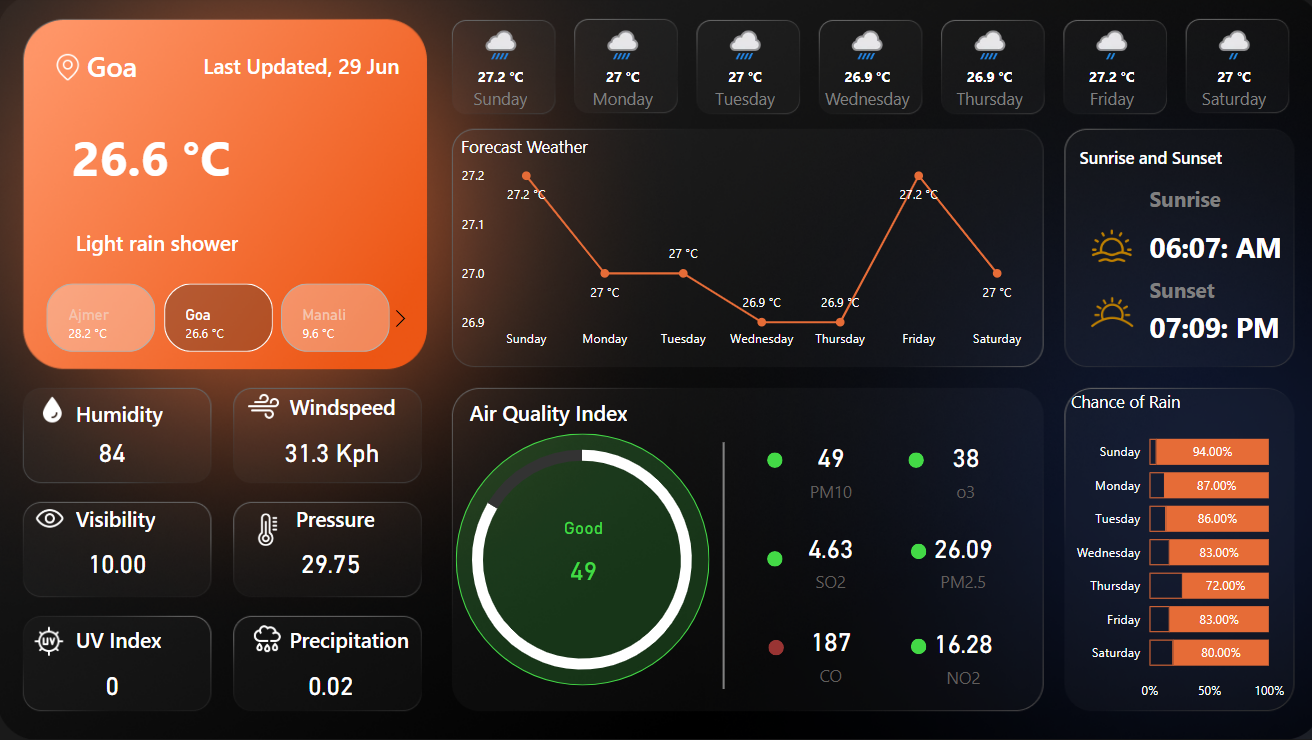

The page's visual inventory and layout, read from the dashboard file:
{"tool":"powerbi","page":{"name":"Page 1","canvas":[1280,720],"ordinal":0},"visuals":[{"type":"advancedSlicerVisual","fields":{"Values":["Location.location.name"]},"box":[23.3,273.1,381.5,76.8],"z":0},{"type":"shape","box":[72.8,107.1,164.8,94.8],"z":1000},{"type":"shape","box":[75.6,217,232.2,41.2],"z":2000},{"type":"shape","box":[86.6,41.9,100.5,48.9],"z":3000},{"type":"image","box":[50.8,46.7,35.7,44],"z":4000},{"type":"shape","box":[199,42.5,205.8,48],"z":5000},{"type":"image","box":[24.7,483.9,53.8,40.7],"z":6000},{"type":"shape","box":[75.6,483.9,100.3,40.7],"z":7000},{"type":"image","box":[29.1,380.7,49.4,36.3],"z":8000},{"type":"shape","box":[75.6,380.7,100.3,42.1],"z":9000},{"type":"image","box":[231.1,374.9,50.9,42.1],"z":10000},{"type":"shape","box":[281.9,374.9,123.5,42.1],"z":11000},{"type":"image","box":[232.5,494.1,56.7,40.7],"z":12000},{"type":"shape","box":[287.7,483.9,100.3,40.7],"z":13000},{"type":"image","box":[21.8,603.1,56.7,39.2],"z":14000},{"type":"shape","box":[75.6,600.2,100.3,42.1],"z":15000},{"type":"image","box":[232.5,600.2,55.2,42.1],"z":16000},{"type":"shape","box":[281.9,600.2,123.5,42.1],"z":17000},{"type":"card","fields":{"Values":["Sum(Current.current.humidity)"]},"box":[71.2,417.1,79.9,46.5],"z":18000},{"type":"card","fields":{"Values":["_Measure.Wind_Speed"]},"box":[270.3,417.1,106.1,46.5],"z":19000},{"type":"card","fields":{"Values":["Sum(Current.current.pressure_in)"]},"box":[281.9,524.6,79.9,46.5],"z":20000},{"type":"card","fields":{"Values":["Sum(Current.current.vis_km)"]},"box":[75.6,524.6,79.9,46.5],"z":21000},{"type":"card","fields":{"Values":["Sum(Current.current.uv)"]},"box":[71.2,642.3,79.9,46.5],"z":22000},{"type":"card","fields":{"Values":["Sum(Current.current.precip_in)"]},"box":[281.9,642.3,79.9,46.5],"z":23000},{"type":"advancedSlicerVisual","fields":{"Values":["Forecast_Day.Day_Name"]},"box":[425.8,16,834.2,101.7],"z":24000},{"type":"lineChart","title":"Forecast Weather","fields":{"Y":["Sum(Forecast_Day.forecast.forecastday.day.avgtemp_c)"],"Category":["Forecast_Day.Day_Name"]},"box":[443.3,133.9,558,215.2],"z":25000},{"type":"shape","box":[1044.3,133.9,202.5,43],"z":26000},{"type":"shape","box":[1112.9,219.6,134.5,45.3],"z":27000},{"type":"shape","box":[1112.9,300.5,134.5,37],"z":28000},{"type":"shape","box":[1112.9,177,134.5,35.7],"z":29000},{"type":"shape","box":[1112.9,264.8,134.5,35.7],"z":30000},{"type":"image","box":[1044.3,273.1,63.1,64.5],"z":31000},{"type":"image","box":[1044.3,216.8,63.1,48],"z":32000},{"type":"hundredPercentStackedBarChart","title":"Chance of Rain","fields":{"Y":["_Measure.Left_value_Rain","Sum(Forecast_Day.forecast.forecastday.day.daily_chance_of_rain)"],"Category":["Forecast_Day.Day_Name"]},"box":[1032,380,216.2,309.1],"z":33000},{"type":"shape","box":[456.1,380,217.9,43.9],"z":34000},{"type":"card","fields":{"Values":["Sum(Current.current.air_quality.o3)"]},"box":[881.7,417.2,106.4,77.7],"z":35000},{"type":"card","fields":{"Values":["Sum(Current.current.air_quality.pm2_5)"]},"box":[880,506.7,106.4,74.3],"z":36000},{"type":"card","fields":{"Values":["Sum(Current.current.air_quality.no2)"]},"box":[880,603,106.4,65.9],"z":37000},{"type":"card","fields":{"Values":["Sum(Current.current.air_quality.pm10)"]},"box":[751.7,417.2,106.4,77.7],"z":38000},{"type":"card","fields":{"Values":["Sum(Current.current.air_quality.so2)"]},"box":[751.7,506.7,106.4,74.3],"z":39000},{"type":"card","fields":{"Values":["Sum(Current.current.air_quality.co)"]},"box":[751.7,599.6,106.4,69.3],"z":40000},{"type":"shape","box":[743.2,440.9,15.2,15.2],"z":41000},{"type":"shape","box":[744.9,621.6,15.2,15.2],"z":42000},{"type":"shape","box":[743.2,535.4,15.2,15.2],"z":43000},{"type":"shape","box":[880,440.9,15.2,15.2],"z":44000},{"type":"shape","box":[881.7,528.7,15.2,15.2],"z":45000},{"type":"shape","box":[881.7,619.9,15.2,15.2],"z":46000},{"type":"shape","box":[660.4,430.7,82.8,238.2],"z":47000},{"type":"card","fields":{"Values":["Sum(Current.current.air_quality.pm10)"]},"box":[518.6,503.4,94.6,82.8],"z":48000},{"type":"shape","box":[442.5,422.3,244.9,243.2],"z":49000},{"type":"donutChart","fields":{"Y":["_Measure.Left_Value_PM10","Sum(Current.current.air_quality.pm10)"]},"box":[410.5,407.1,309.1,275.3],"z":50000}]}

Visuals, with their boxes in screenshot pixels (x1, y1, x2, y2), scaled from the page's 1280x720 canvas onto the 1312x740 screenshot:
advancedSlicerVisual - Location.location.name: [left=24, top=281, right=415, bottom=360]
shape: [left=75, top=110, right=244, bottom=208]
shape: [left=77, top=223, right=315, bottom=265]
shape: [left=89, top=43, right=192, bottom=93]
image: [left=52, top=48, right=89, bottom=93]
shape: [left=204, top=44, right=415, bottom=93]
image: [left=25, top=497, right=80, bottom=539]
shape: [left=77, top=497, right=180, bottom=539]
image: [left=30, top=391, right=80, bottom=429]
shape: [left=77, top=391, right=180, bottom=435]
image: [left=237, top=385, right=289, bottom=429]
shape: [left=289, top=385, right=416, bottom=429]
image: [left=238, top=508, right=296, bottom=550]
shape: [left=295, top=497, right=398, bottom=539]
image: [left=22, top=620, right=80, bottom=660]
shape: [left=77, top=617, right=180, bottom=660]
image: [left=238, top=617, right=295, bottom=660]
shape: [left=289, top=617, right=416, bottom=660]
card - Sum(Current.current.humidity): [left=73, top=429, right=155, bottom=476]
card - _Measure.Wind_Speed: [left=277, top=429, right=386, bottom=476]
card - Sum(Current.current.pressure_in): [left=289, top=539, right=371, bottom=587]
card - Sum(Current.current.vis_km): [left=77, top=539, right=159, bottom=587]
card - Sum(Current.current.uv): [left=73, top=660, right=155, bottom=708]
card - Sum(Current.current.precip_in): [left=289, top=660, right=371, bottom=708]
advancedSlicerVisual - Forecast_Day.Day_Name: [left=436, top=16, right=1292, bottom=121]
"Forecast Weather" lineChart: [left=454, top=138, right=1026, bottom=359]
shape: [left=1070, top=138, right=1278, bottom=182]
shape: [left=1141, top=226, right=1279, bottom=272]
shape: [left=1141, top=309, right=1279, bottom=347]
shape: [left=1141, top=182, right=1279, bottom=219]
shape: [left=1141, top=272, right=1279, bottom=309]
image: [left=1070, top=281, right=1135, bottom=347]
image: [left=1070, top=223, right=1135, bottom=272]
"Chance of Rain" hundredPercentStackedBarChart: [left=1058, top=391, right=1279, bottom=708]
shape: [left=468, top=391, right=691, bottom=436]
card - Sum(Current.current.air_quality.o3): [left=904, top=429, right=1013, bottom=509]
card - Sum(Current.current.air_quality.pm2_5): [left=902, top=521, right=1011, bottom=597]
card - Sum(Current.current.air_quality.no2): [left=902, top=620, right=1011, bottom=687]
card - Sum(Current.current.air_quality.pm10): [left=770, top=429, right=880, bottom=509]
card - Sum(Current.current.air_quality.so2): [left=770, top=521, right=880, bottom=597]
card - Sum(Current.current.air_quality.co): [left=770, top=616, right=880, bottom=687]
shape: [left=762, top=453, right=777, bottom=469]
shape: [left=764, top=639, right=779, bottom=654]
shape: [left=762, top=550, right=777, bottom=566]
shape: [left=902, top=453, right=918, bottom=469]
shape: [left=904, top=543, right=919, bottom=559]
shape: [left=904, top=637, right=919, bottom=653]
shape: [left=677, top=443, right=762, bottom=687]
card - Sum(Current.current.air_quality.pm10): [left=532, top=517, right=629, bottom=602]
shape: [left=454, top=434, right=705, bottom=684]
donutChart - _Measure.Left_Value_PM10 x Sum(Current.current.air_quality.pm10): [left=421, top=418, right=738, bottom=701]
